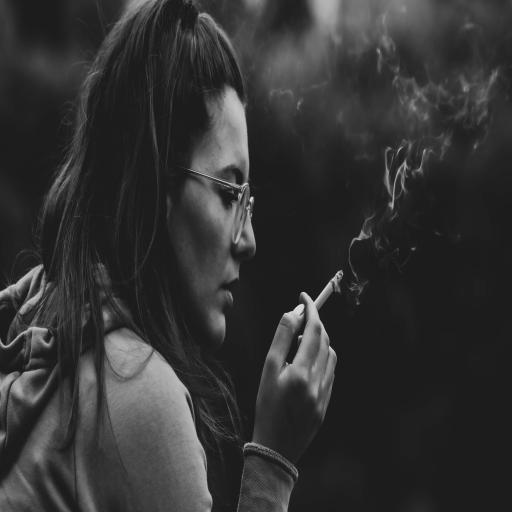terdeteksi pegang rokok: (270, 239, 349, 435)
